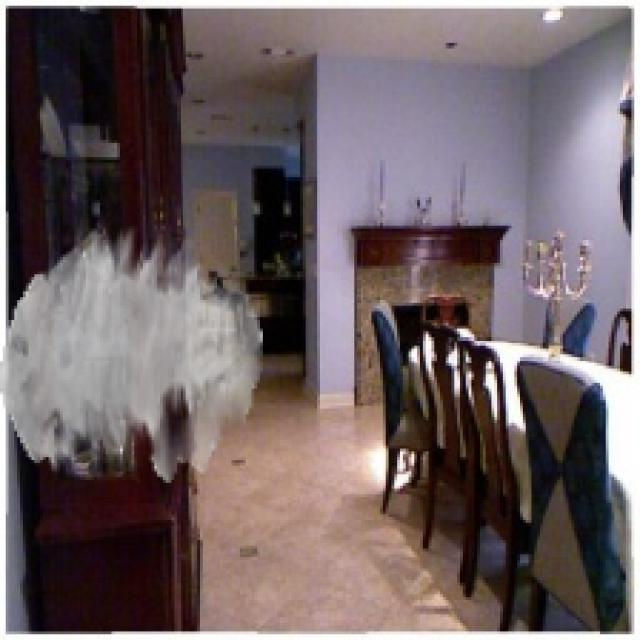Smoke: (0, 226, 263, 483)
